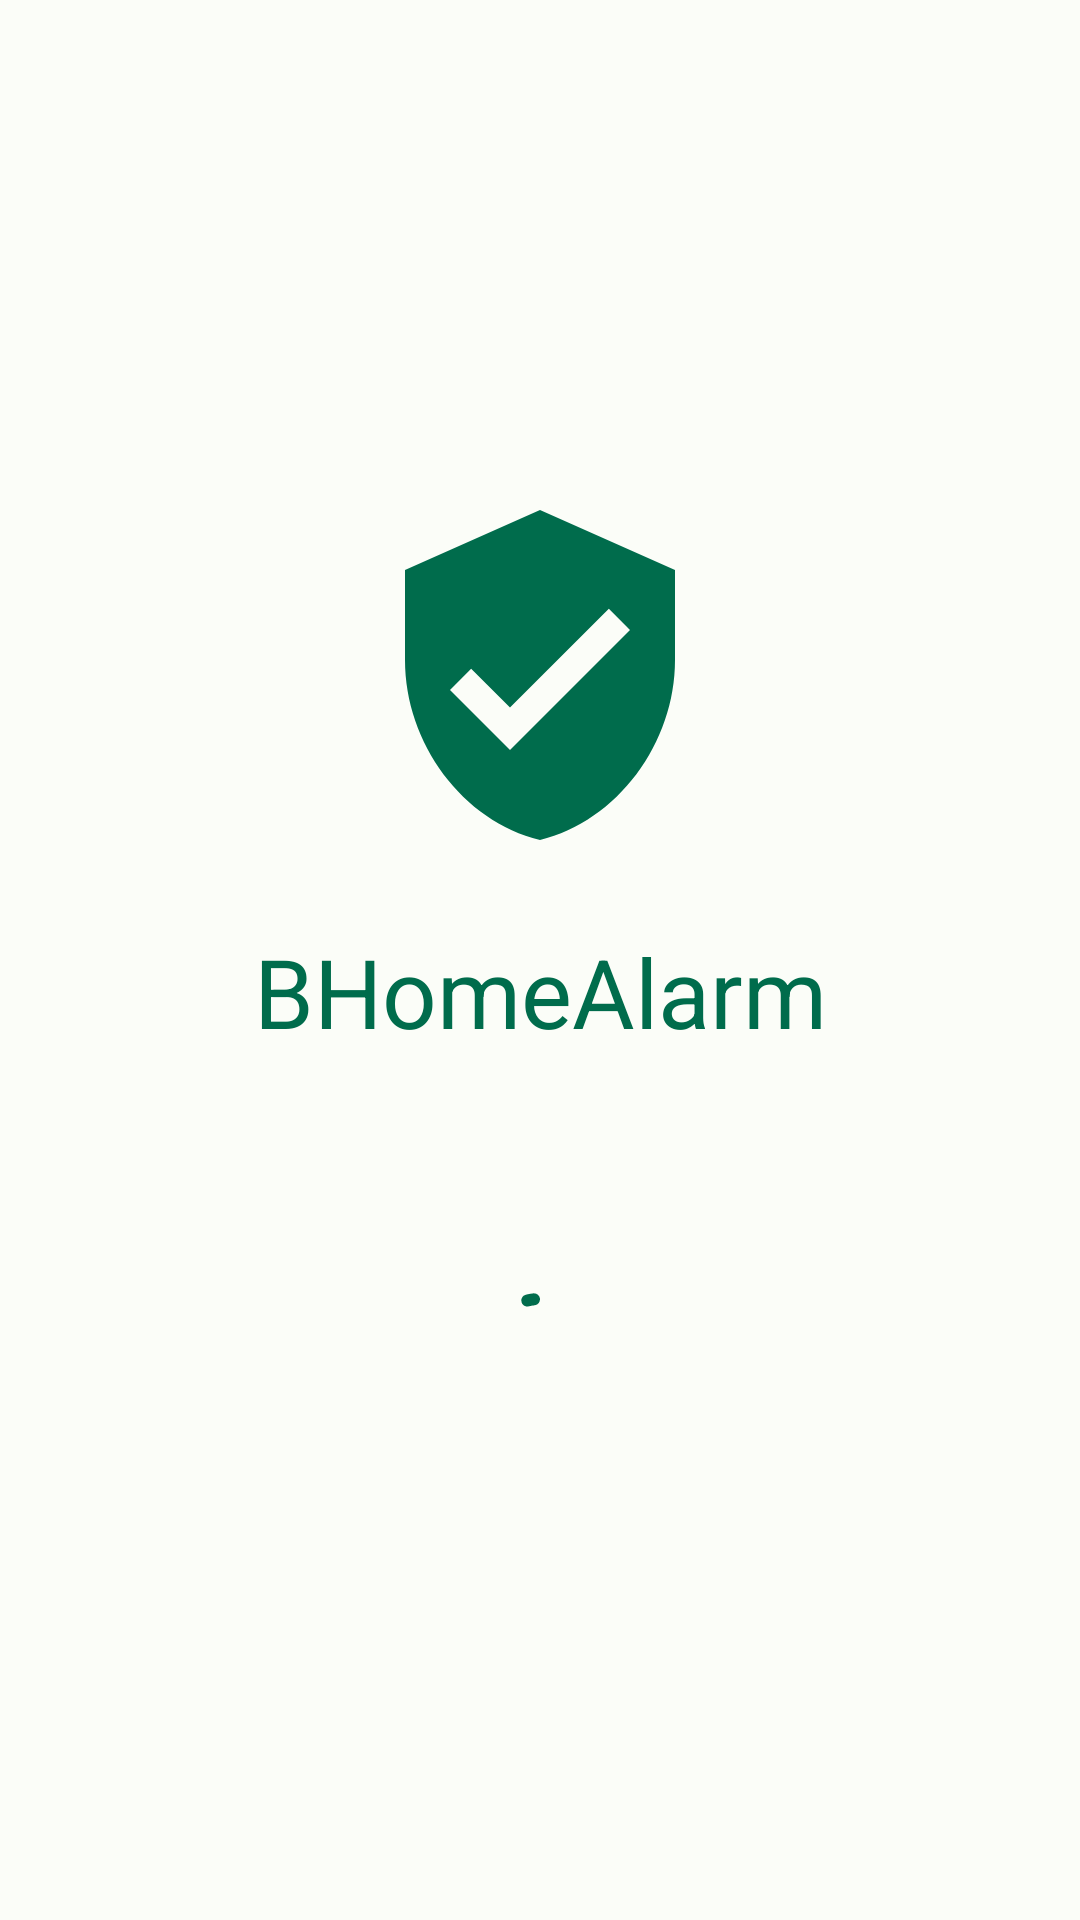

Where to tap for icons on this 1080×1920 app screen, as point (x, y):
shield: point (540, 675)
